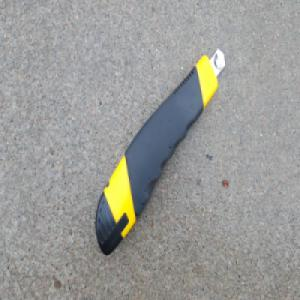Cutter: (93, 47, 226, 257)
